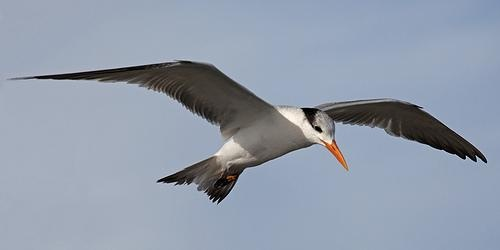bird: (6, 60, 489, 205)
